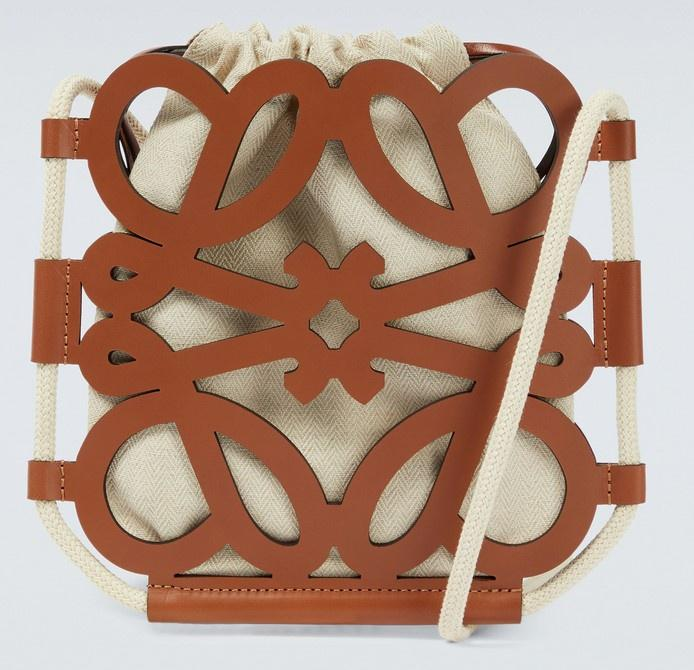LOEWE: (73, 41, 606, 587)
